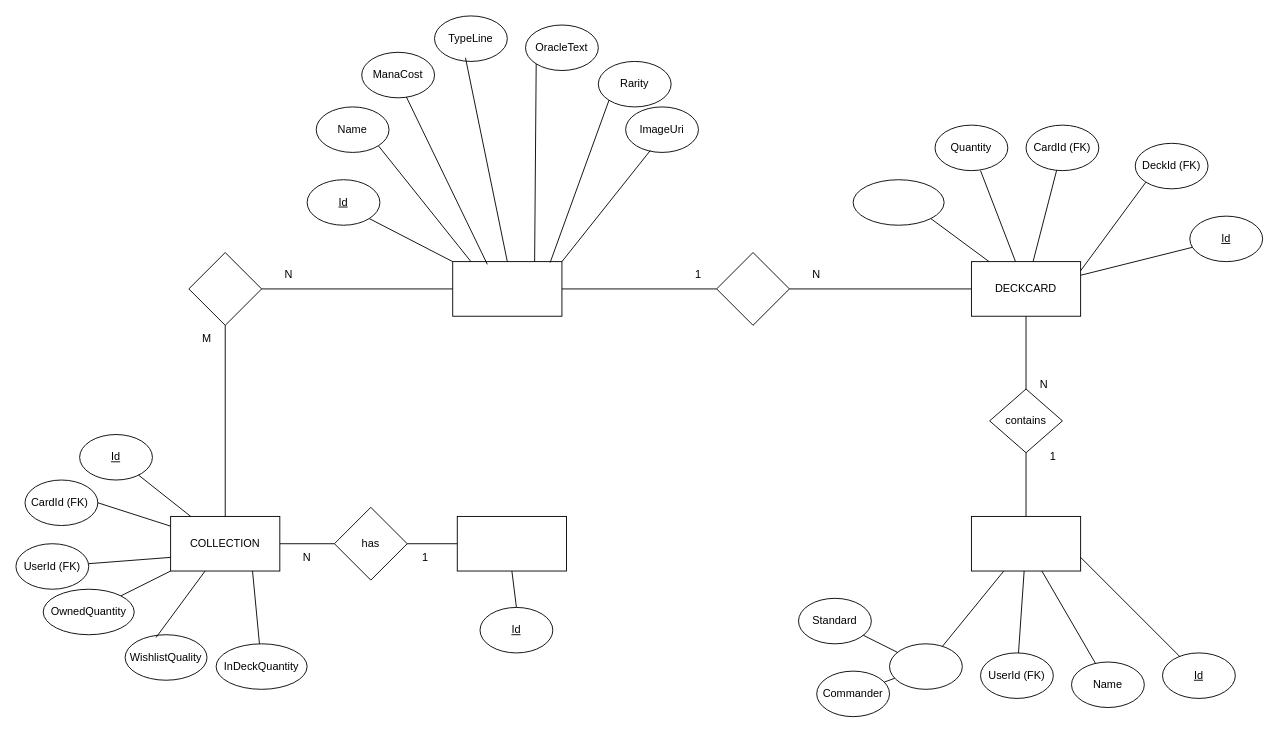
Image size: 1279x733. Some labels were removed from this diagram. The shapes that lost their labels are listed below. From the top down, each one's box as (x1, y1, x2, y2) in pixels, then its label:
(852, 179, 944, 225): IsCommander
(188, 252, 262, 325): stores
(452, 261, 562, 316): CARD
(716, 252, 789, 325): can_be
(456, 516, 566, 571): USER
(971, 516, 1081, 571): DECK
(889, 643, 962, 689): Format
